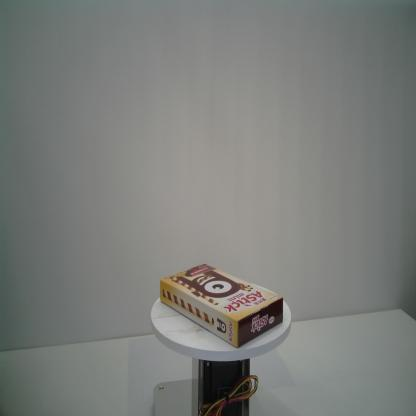Dessert: (160, 264, 283, 348)
